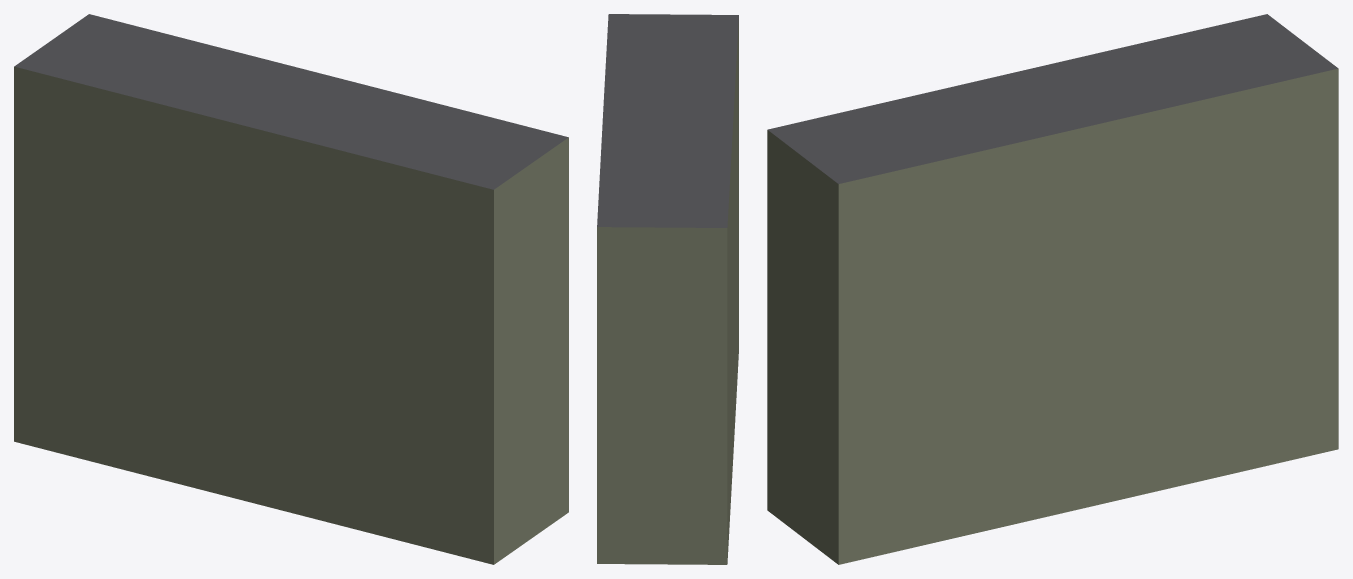
File: nyc-1024645-0.glb
3 renders of one model, left to right at view 1: azimuth 30°, elevation 25°; view 2: azimuth 150°, elevation 25°; view 3: azimuth 270°, elevation 25°, orthographic. The views are drawn at different scales.
Visible parts, largest first — view 1: nyc-1024645-0; view 2: nyc-1024645-0; view 3: nyc-1024645-0.
Boxes of the visible parts, box(x1,y1,x2,y2) form: nyc-1024645-0: box(14, 14, 568, 564); nyc-1024645-0: box(597, 14, 738, 564); nyc-1024645-0: box(767, 14, 1338, 564).
Size of the model in its own units: 21.19 by 22.11 by 30.06.
